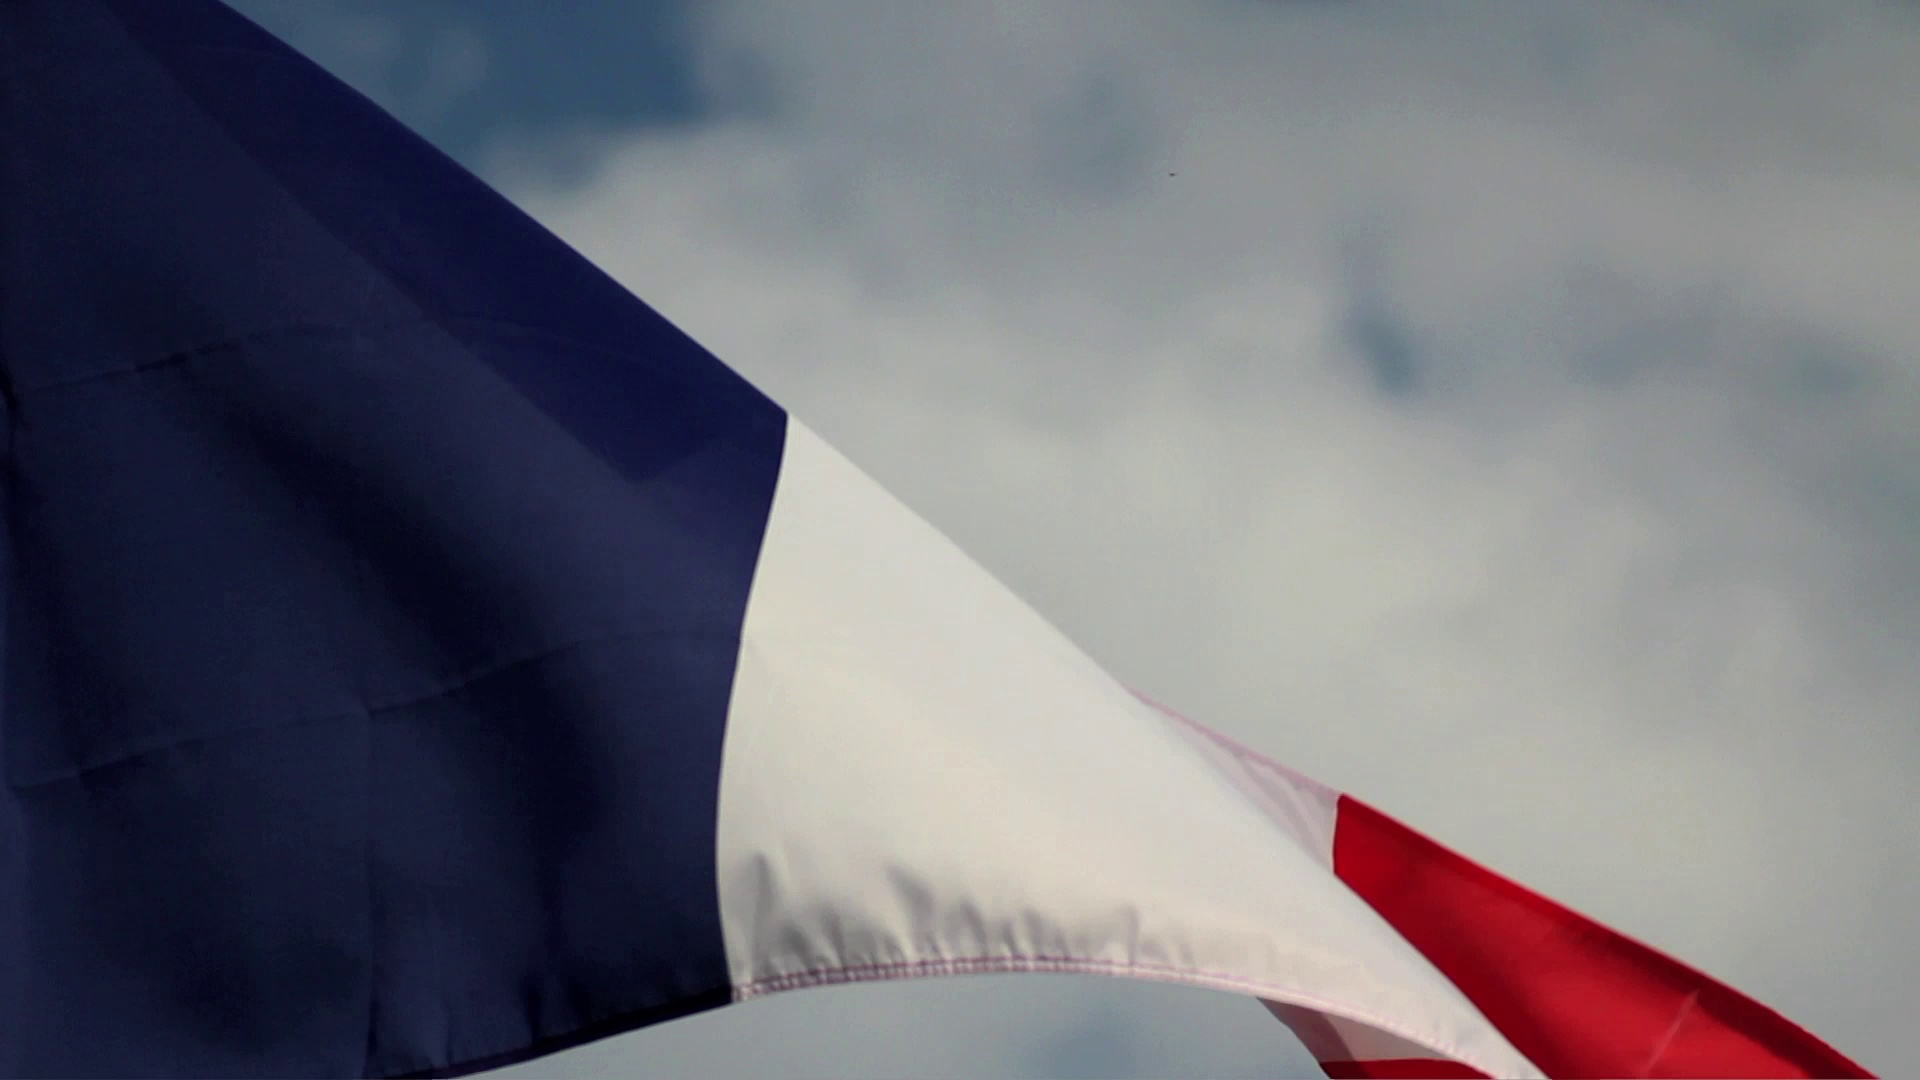French Flag: (1, 1, 1867, 1080)
